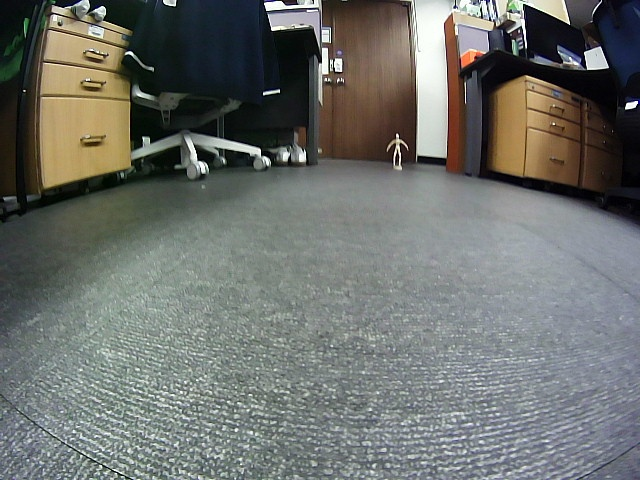person: (386, 133, 407, 167)
